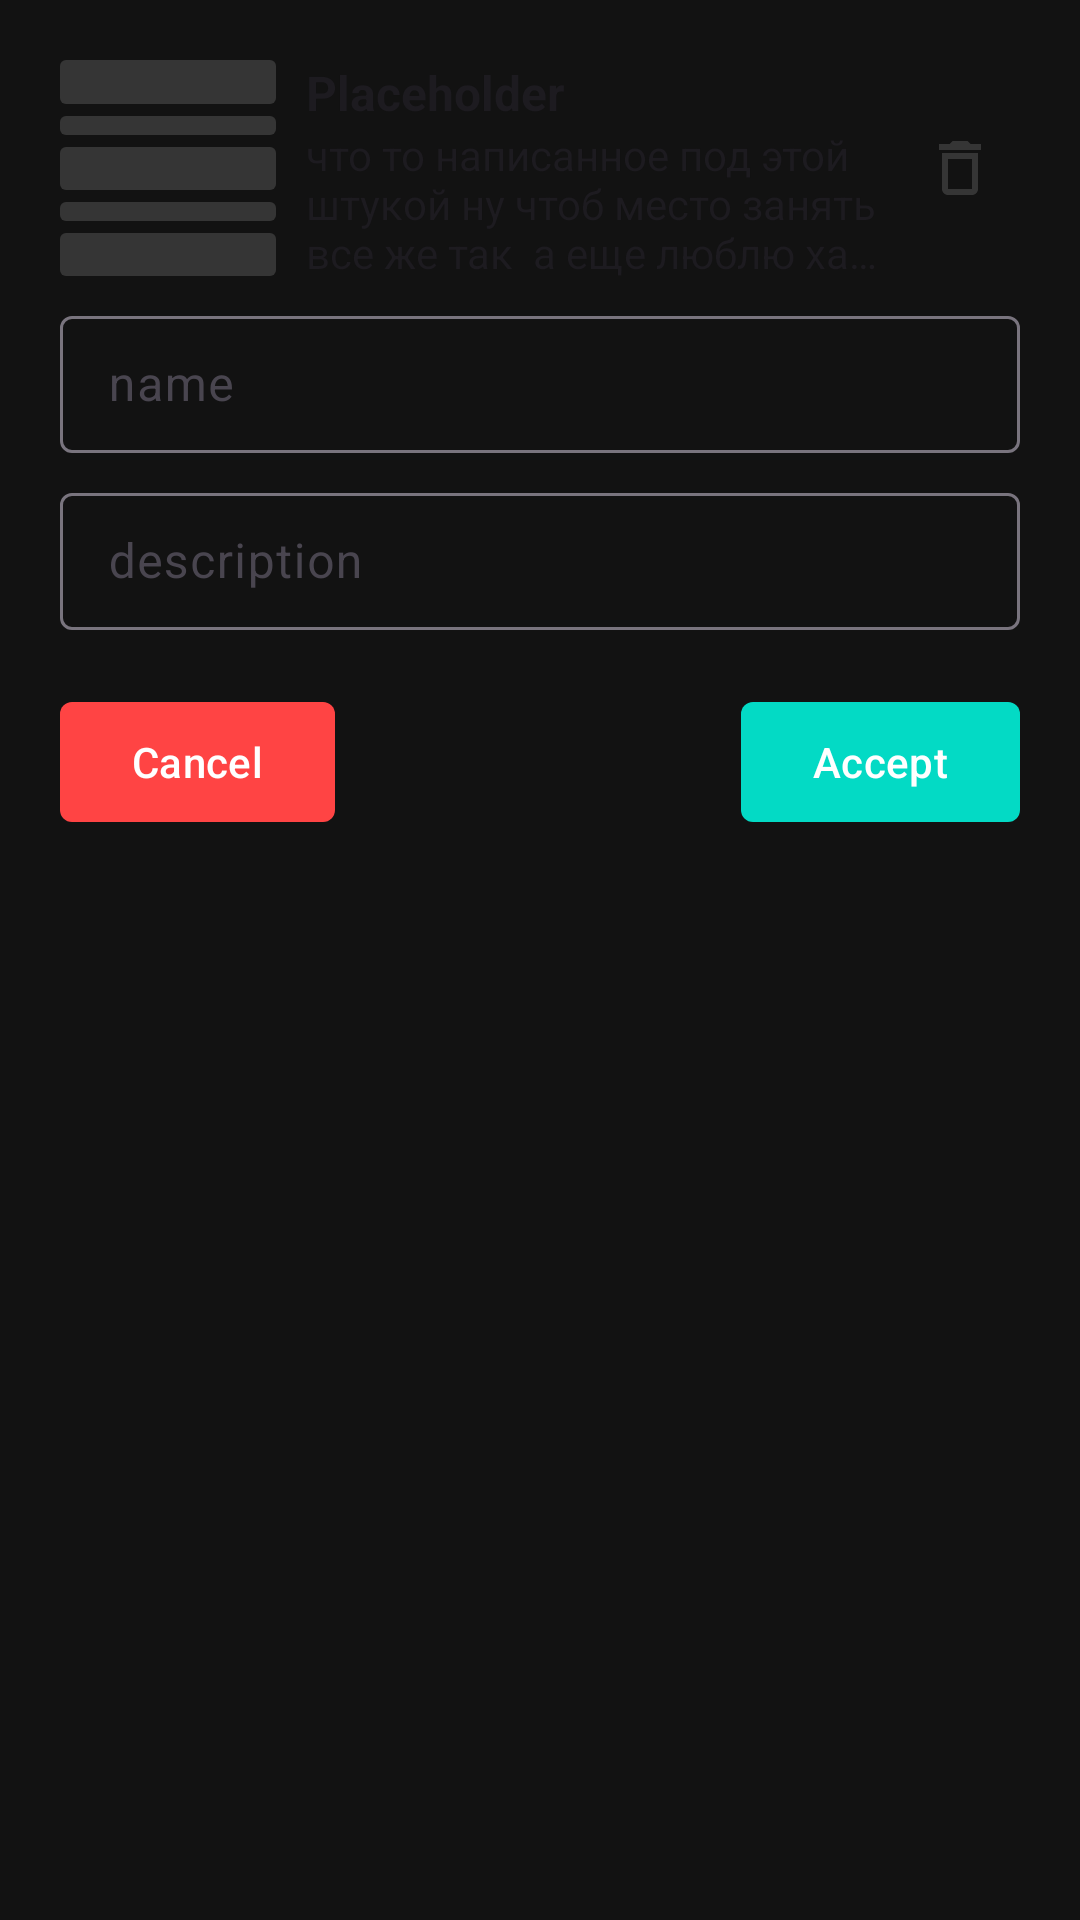

Where icons sit on this 1080x1920 app screen, as Rect(x1, y1, x2, y2):
delete: Rect(939, 141, 981, 195)
